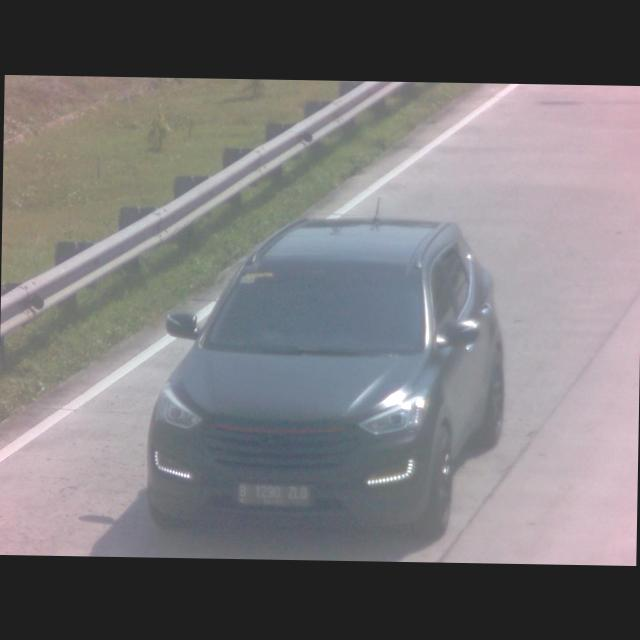plate: (235, 477, 313, 509)
